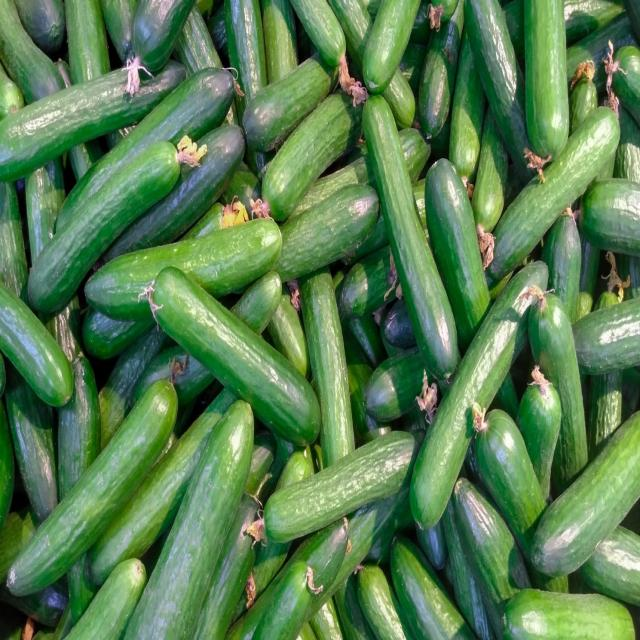Pickle: (410, 262, 549, 529), (8, 380, 178, 595), (125, 400, 254, 640), (55, 69, 235, 237), (152, 267, 321, 445), (362, 96, 458, 380), (28, 140, 180, 312), (486, 107, 620, 283), (88, 411, 221, 585), (86, 220, 281, 320), (102, 127, 245, 262), (531, 411, 640, 574), (264, 431, 419, 542), (261, 93, 362, 221), (464, 0, 534, 183), (451, 478, 531, 637), (425, 160, 490, 350), (528, 293, 588, 493), (300, 269, 355, 466), (475, 409, 546, 561), (275, 184, 379, 282), (242, 53, 339, 151), (0, 280, 74, 406), (391, 535, 475, 640), (524, 0, 569, 160), (502, 589, 635, 640), (66, 557, 146, 640), (516, 364, 561, 499), (362, 0, 420, 93), (572, 298, 640, 374), (579, 178, 640, 255), (184, 195, 249, 240), (530, 566, 568, 592)
